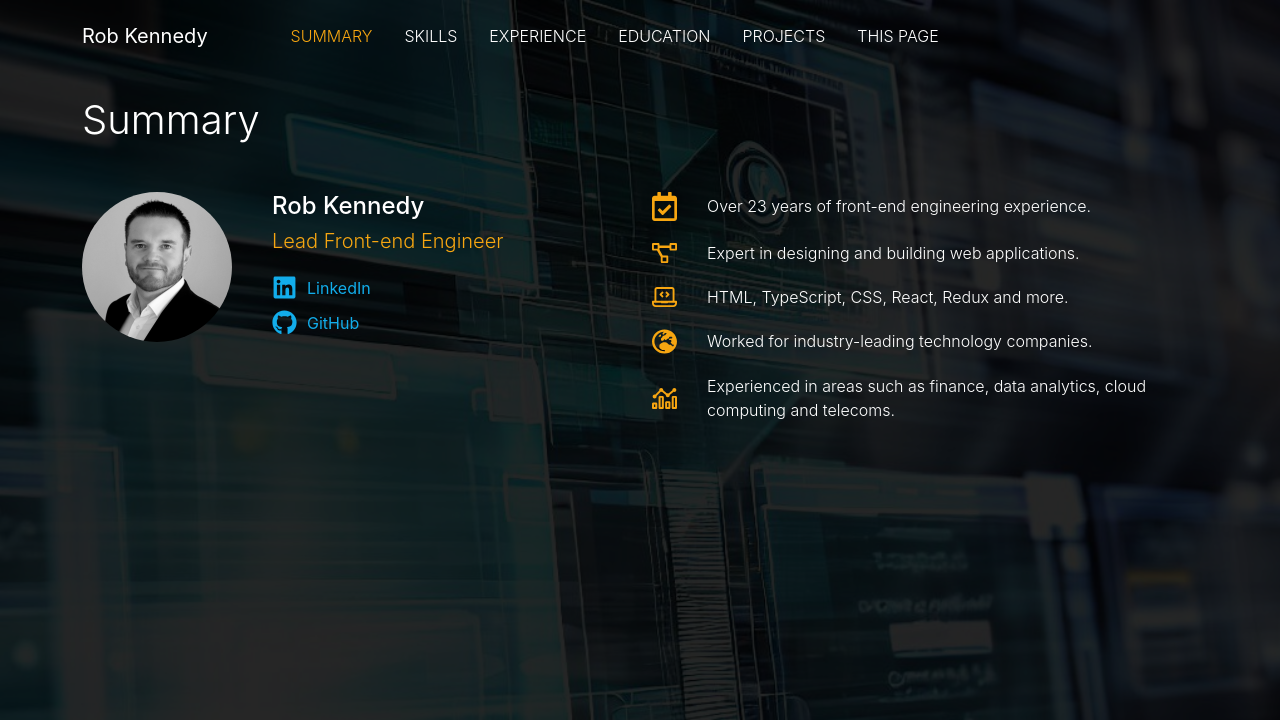
Test case: Skills Page › loads when Skills link in header is selected
Click the link "Skills". click: (432, 36)
box: [405,26,458,46]
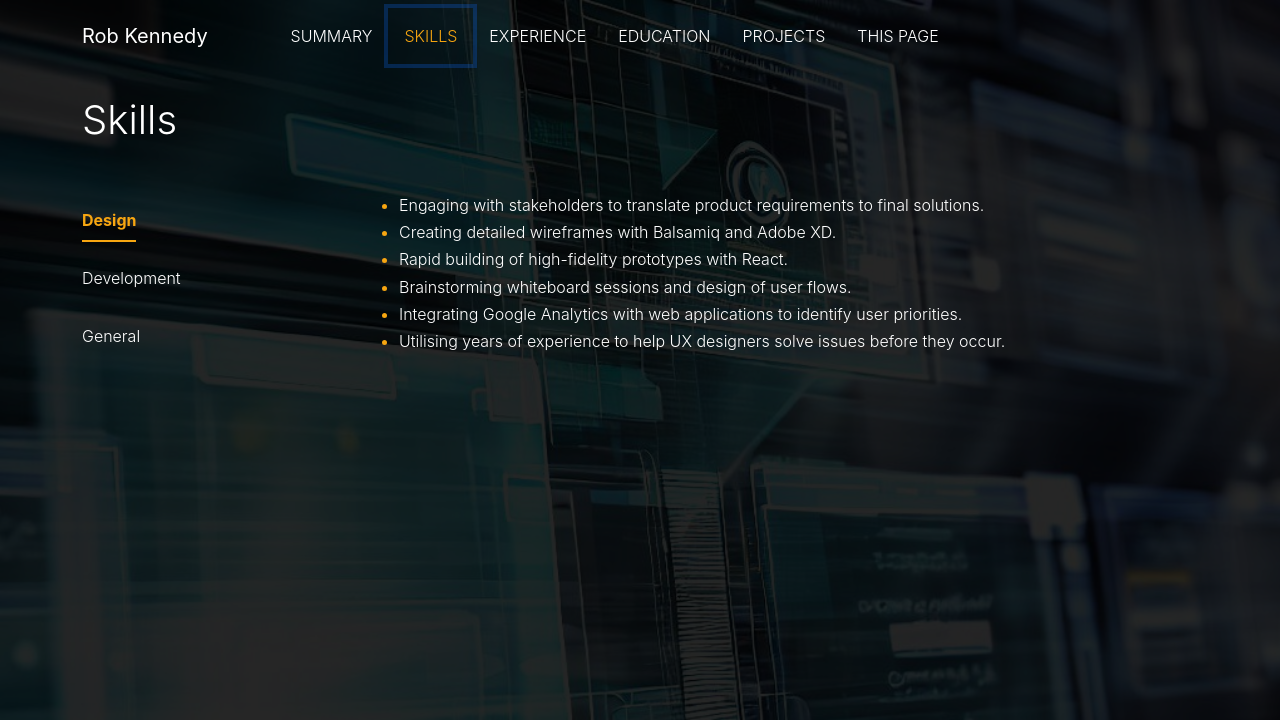
Check: the text with class "navbar-brand" reads "Rob Kennedy", box [82,24,208,48]
Check: the heading "Skills" is shown, box [82,95,177,144]
